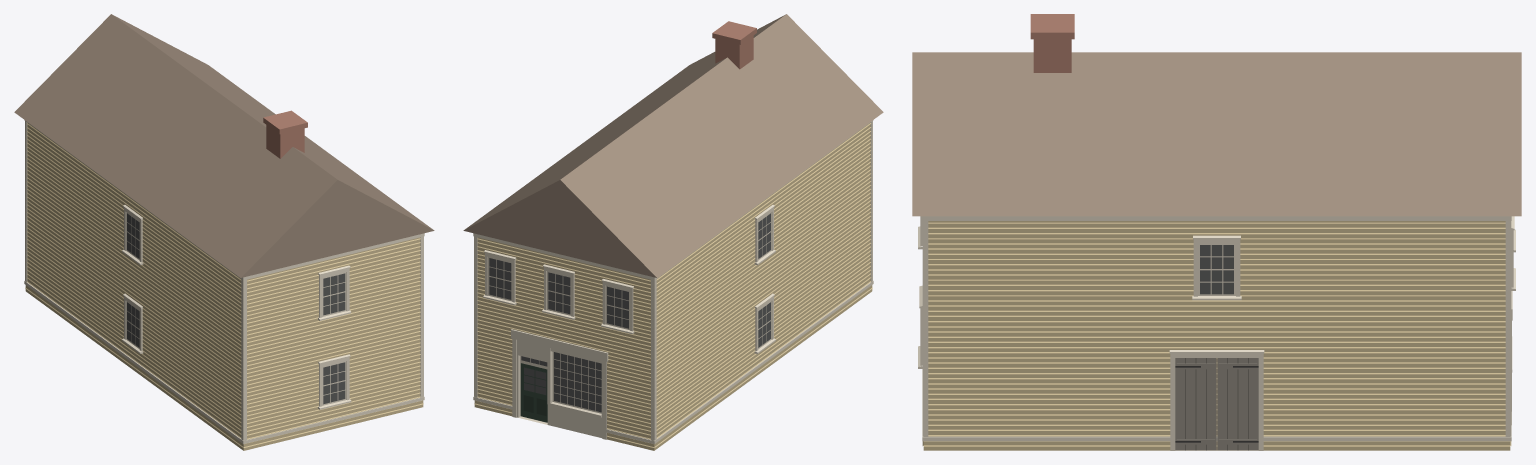
The model's file is recon_1835_core_c3_046__inferred_1835.glb.
The picture shows the model from 3 angles, left to right: view 1: azimuth 30°, elevation 25°; view 2: azimuth 150°, elevation 25°; view 3: azimuth 270°, elevation 25°; orthographic projection. The views are drawn at different scales.
Parts seen in each view (by area): view 1: recon_1835_core_c3_046__inferred_1835; view 2: recon_1835_core_c3_046__inferred_1835; view 3: recon_1835_core_c3_046__inferred_1835.
Part boxes in pixels (box(x1,y1,x2,y2)): recon_1835_core_c3_046__inferred_1835: box(14, 14, 434, 450); recon_1835_core_c3_046__inferred_1835: box(463, 14, 883, 450); recon_1835_core_c3_046__inferred_1835: box(912, 14, 1521, 450).
Bounding box in the file's own units: 6.7 × 9.03 × 13.53.
